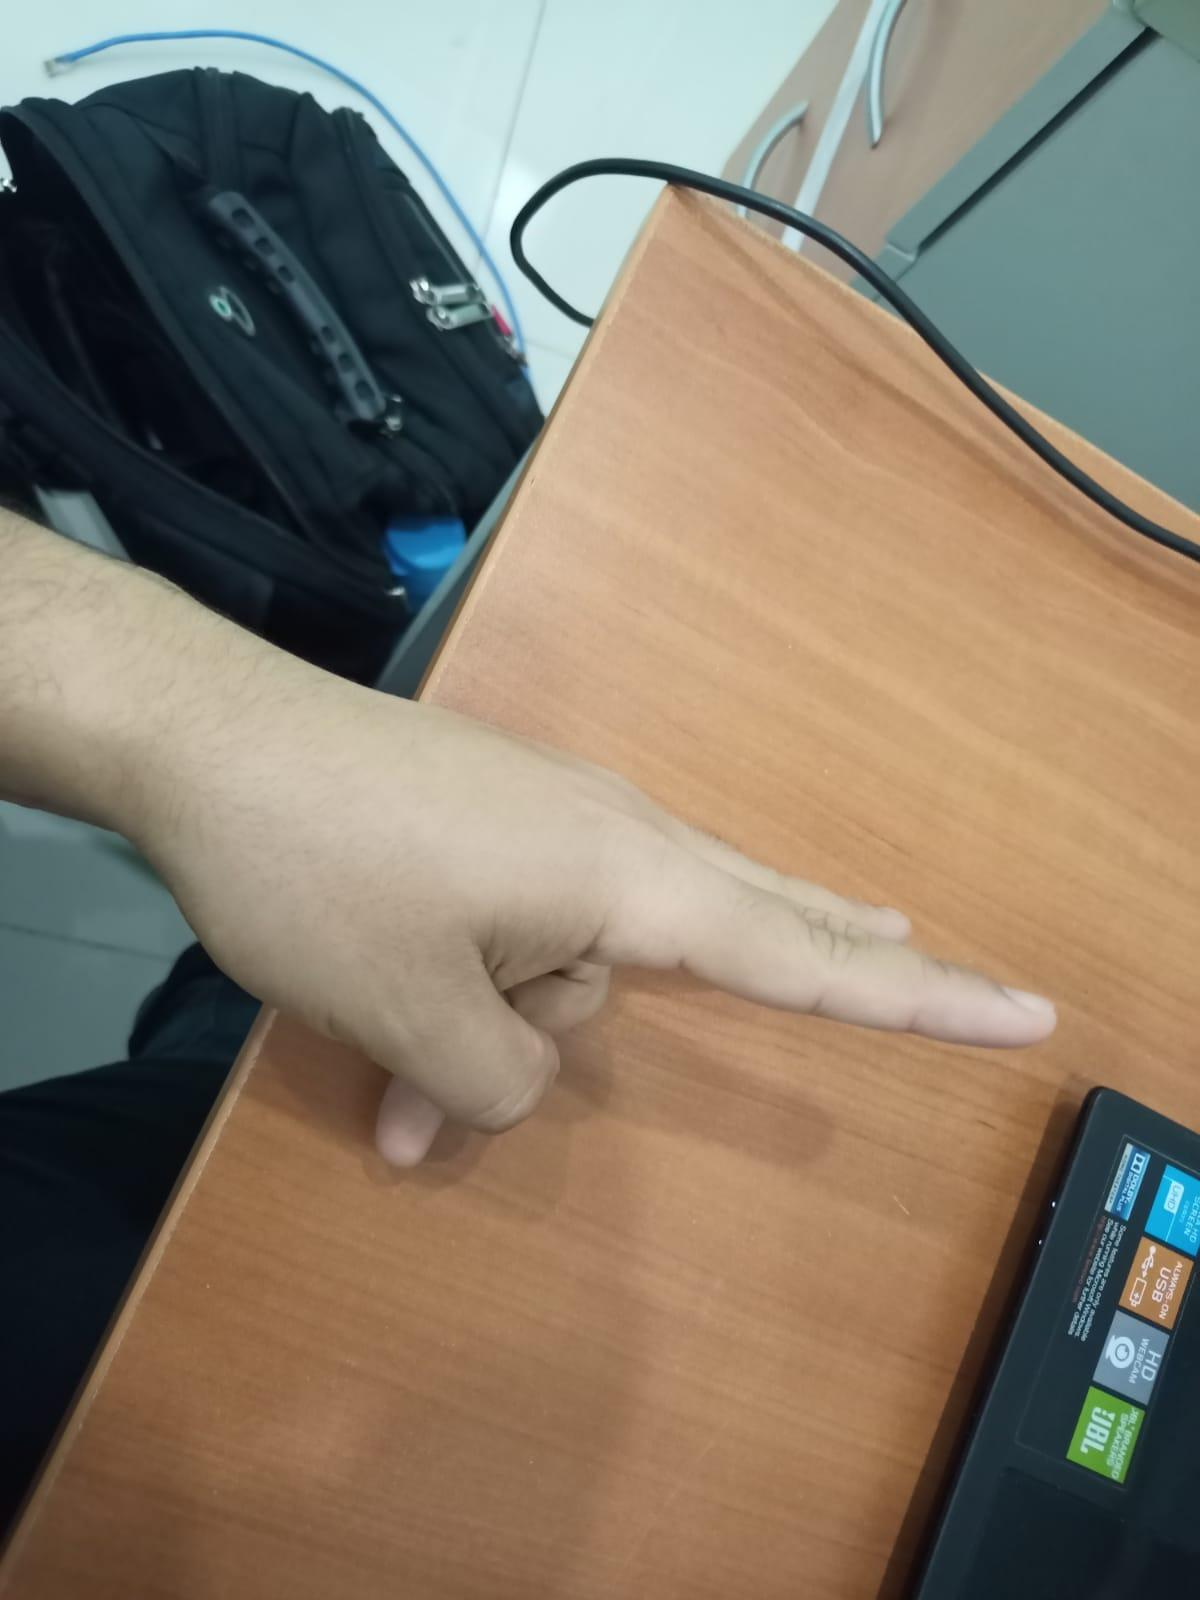Scissor: (151, 665, 1108, 1199)
